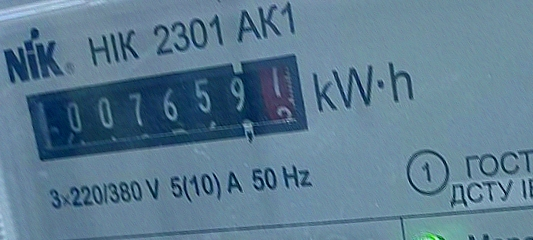0: (94, 91, 118, 133), (63, 97, 87, 137)
1: (264, 62, 288, 101)
5: (190, 74, 217, 116)
6: (157, 82, 184, 125)
7: (124, 87, 151, 128)
9: (226, 72, 252, 114)
screen: (16, 47, 316, 173)
